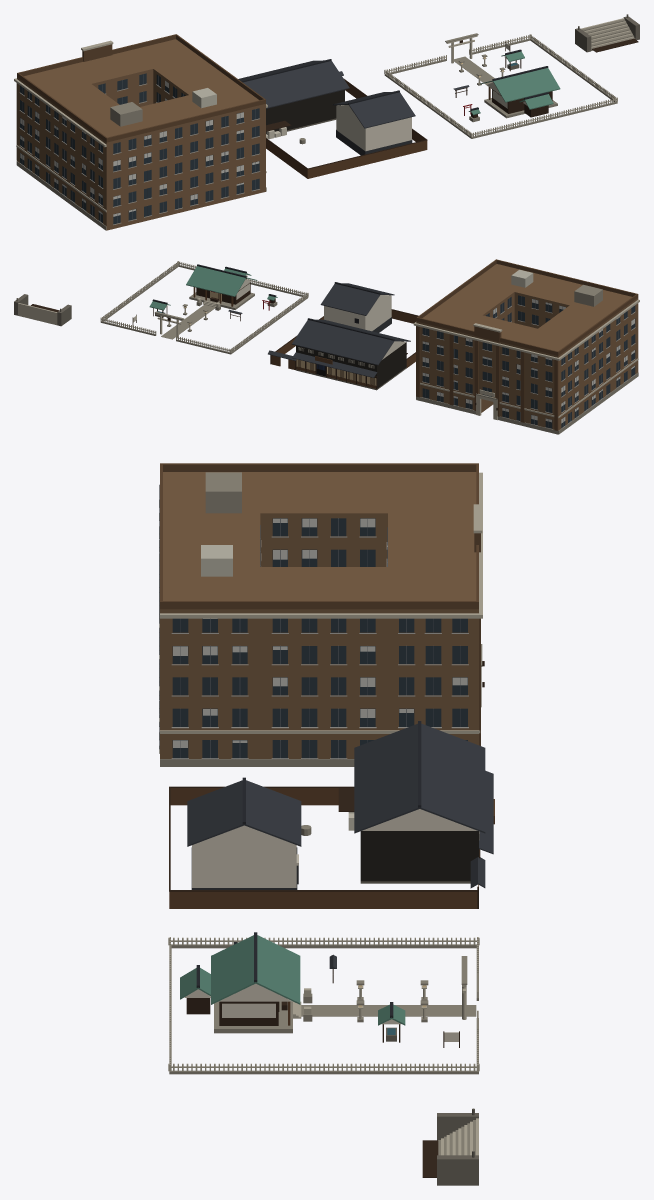
File: wata.glb
3 views of the same model, one above another, from view 1: azimuth 30°, elevation 25°; view 2: azimuth 150°, elevation 25°; view 3: azimuth 270°, elevation 25° (orthographic). The views are drawn at different scales.
Parts seen in each view (by area): view 1: wata_court_body, wata_tonya_body, wata_yashiro_body, wata_gangi_body; view 2: wata_court_body, wata_tonya_body, wata_yashiro_body, wata_gangi_body; view 3: wata_court_body, wata_tonya_body, wata_yashiro_body, wata_gangi_body.
Boxes of the visible parts, x1,y1,x2,y2 form: wata_court_body: (14, 34, 267, 230); wata_tonya_body: (238, 59, 427, 178); wata_yashiro_body: (384, 33, 617, 138); wata_gangi_body: (575, 14, 639, 52); wata_court_body: (413, 259, 639, 434); wata_tonya_body: (268, 282, 418, 390); wata_yashiro_body: (100, 261, 308, 354); wata_gangi_body: (14, 294, 71, 326); wata_court_body: (159, 463, 484, 766); wata_tonya_body: (169, 721, 494, 908); wata_yashiro_body: (168, 932, 479, 1074); wata_gangi_body: (422, 1108, 478, 1185).
Size of the model in its own units: 138 by 24.95 by 36.87.
